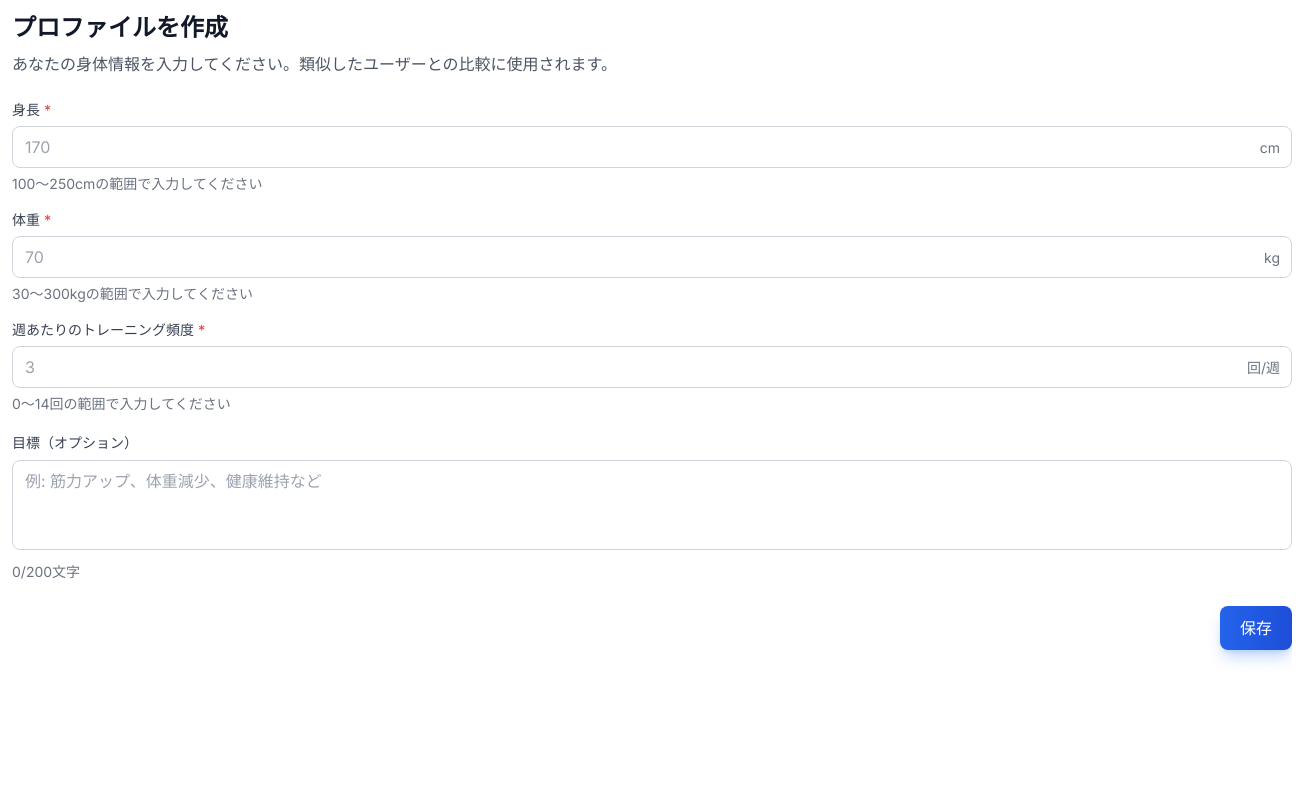
it: ProfileForm › バリデーション - 要件5.3 › 身長が範囲外の場合、エラーメッセージを表示する
Type "50" into the number field labelled "身長*" at (652, 147), box [12,126,1292,168]
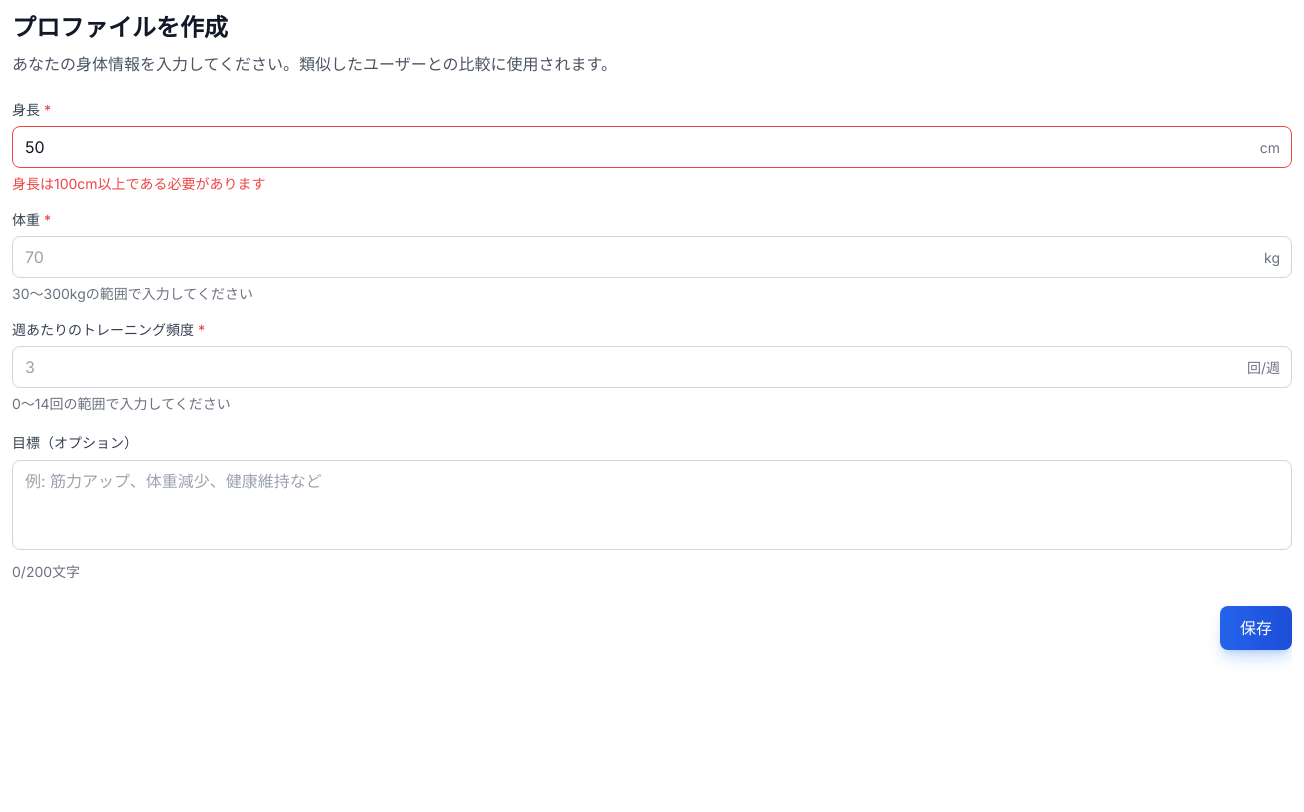
Result: the text "身長は100cm以上である必要があります" is shown at [12,175,266,192]
